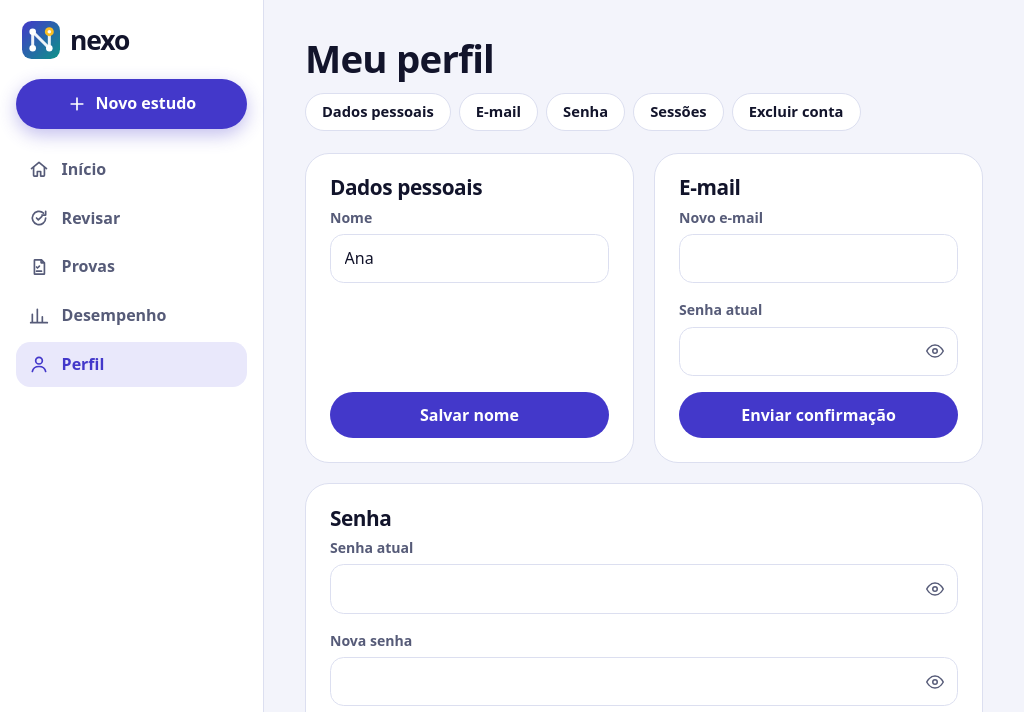
Test: o cabeçalho leva a Revisar e Desempenho
Click the button "Revisar".
click(132, 218)  # box [16,195,247,241]
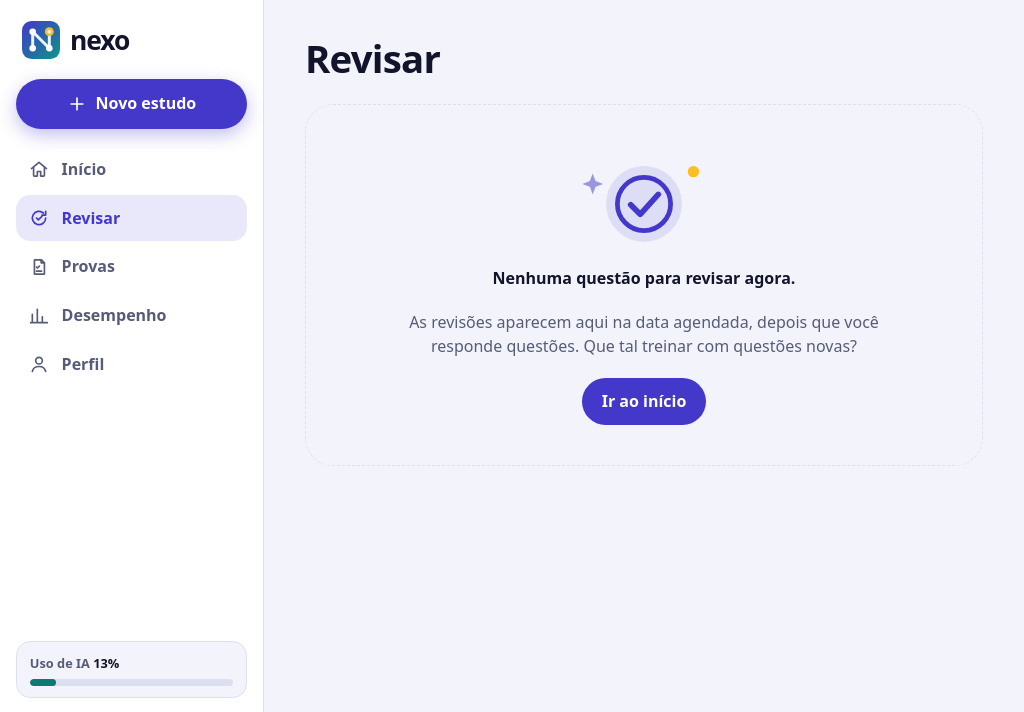
Expected: the heading "Revisar" is shown, [305,32,440,84]
